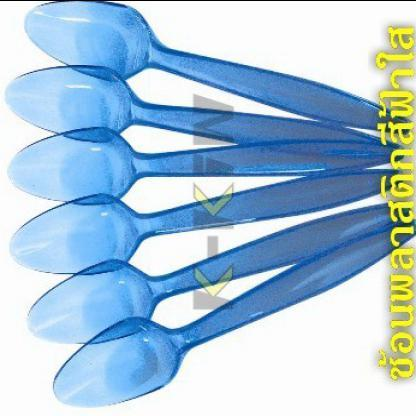Others: (6, 2, 414, 406)
